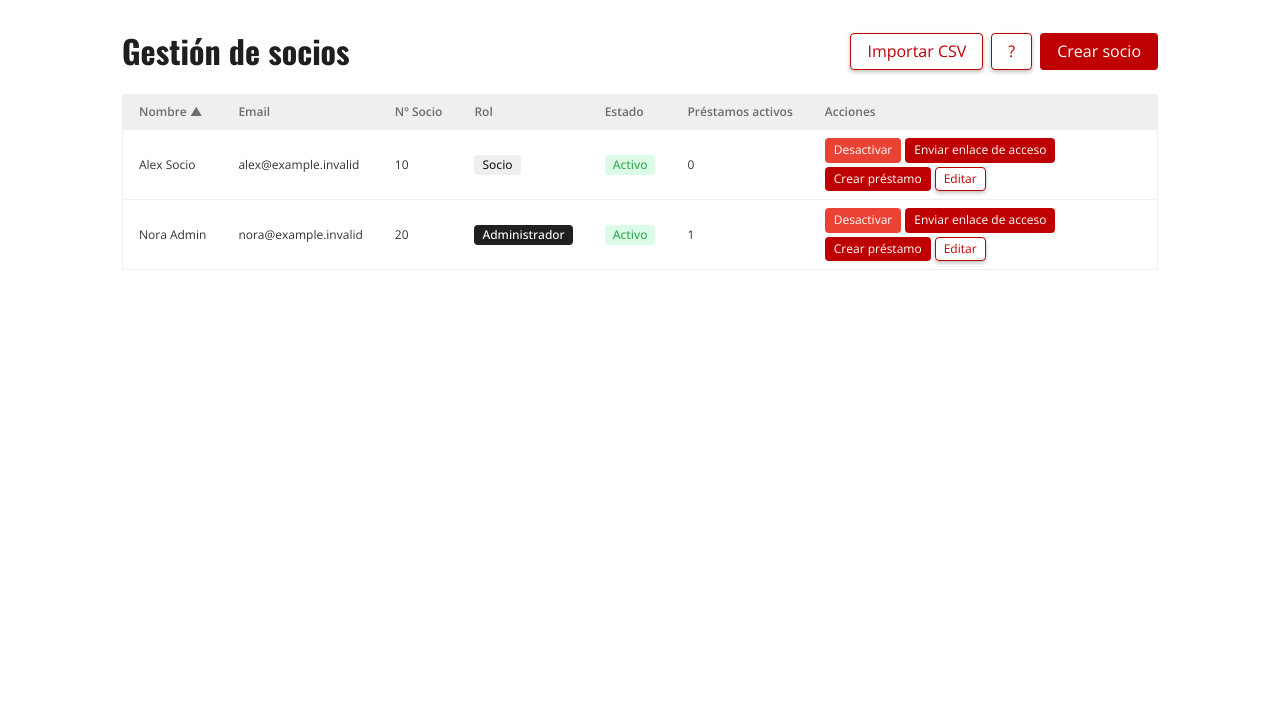
Scenario: AdminMembersPage admin-created loans › creates a loan after searching an available item by supported metadata
Click the button "Crear préstamo" in the row of "Alex Socio" at (878, 179), box left=825, top=167, right=931, bottom=191
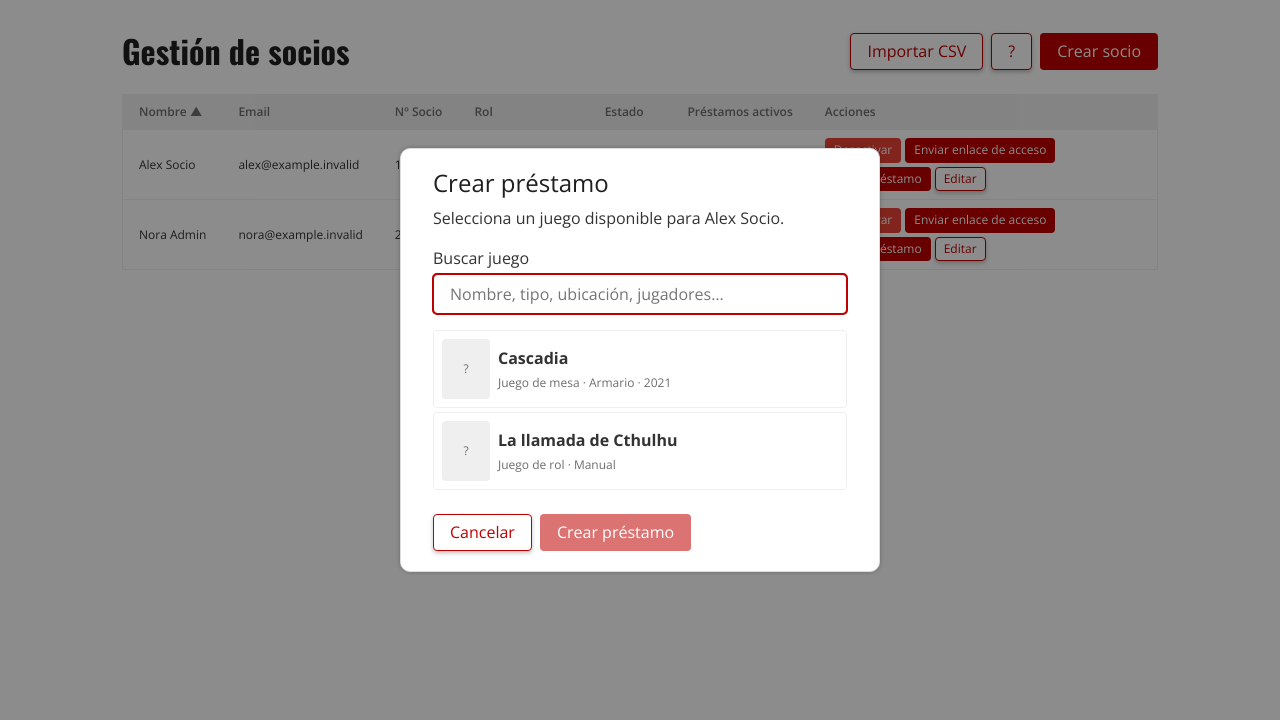
Expected: the text "La llamada de Cthulhu" is shown, left=498, top=428, right=677, bottom=452
Expected: the text "Juego de rol · Manual" is shown, left=498, top=456, right=616, bottom=473
Type "accion" into the search field labelled "Buscar juego" at (640, 294), box left=433, top=274, right=847, bottom=314
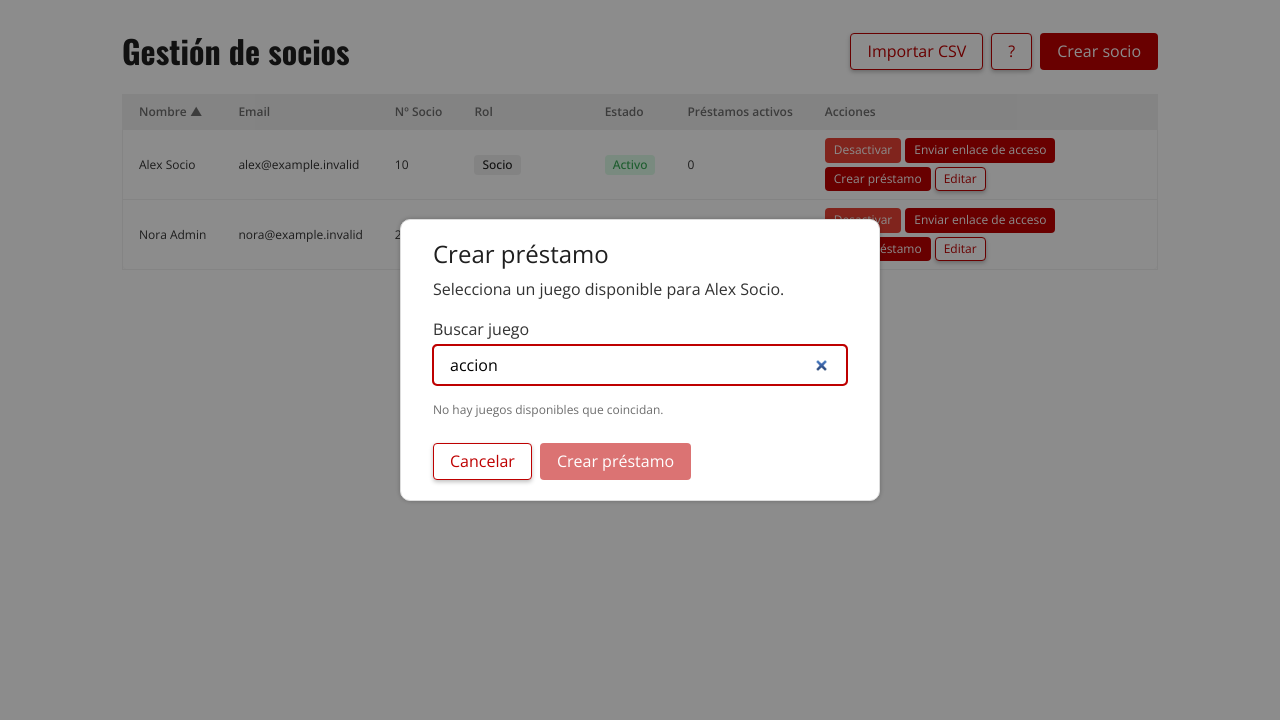
Expected: the button "Cascadia" is gone
Clear the search field labelled "Buscar juego" at (640, 365), box left=433, top=345, right=847, bottom=385
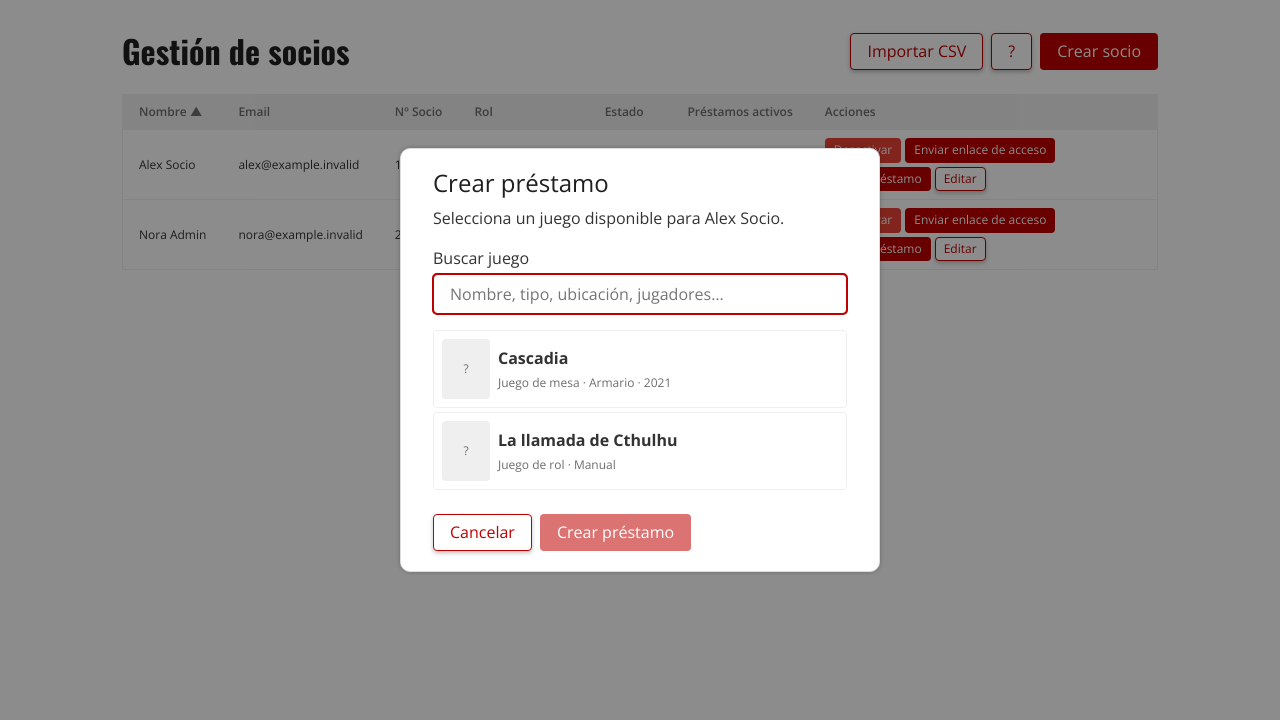
Type "armario" into the search field labelled "Buscar juego" at (640, 294), box left=433, top=274, right=847, bottom=314
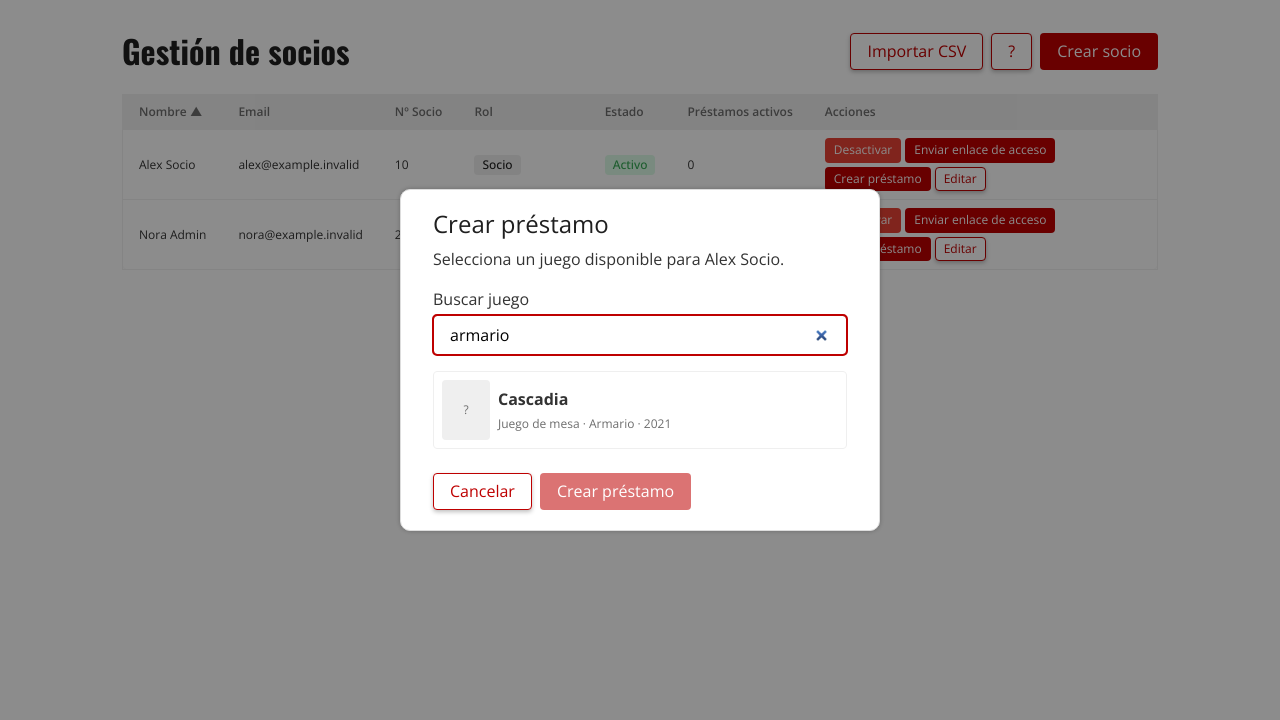
Expected: the text "Cascadia" is shown, left=498, top=388, right=568, bottom=410
Click the button "? Cascadia Juego de mesa · Armario · 2021" at (466, 410), box left=433, top=371, right=847, bottom=449
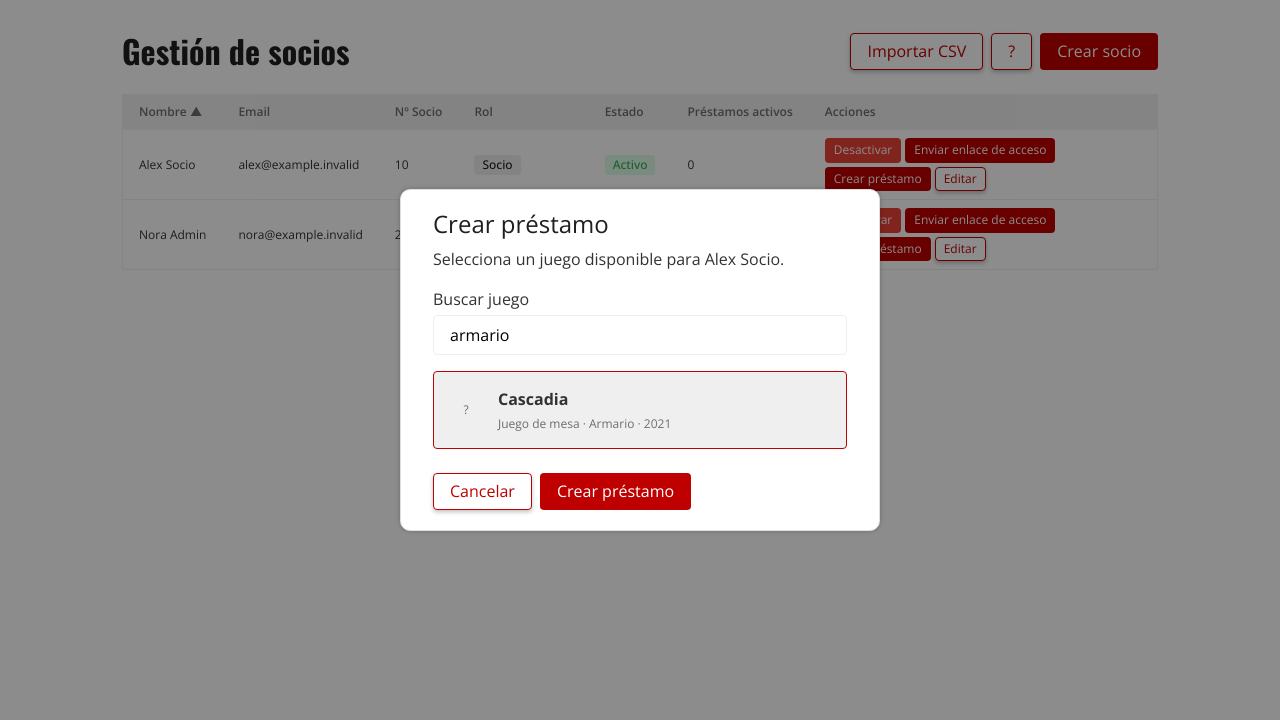
Click the button "Crear préstamo" at (616, 491), box left=540, top=473, right=691, bottom=510
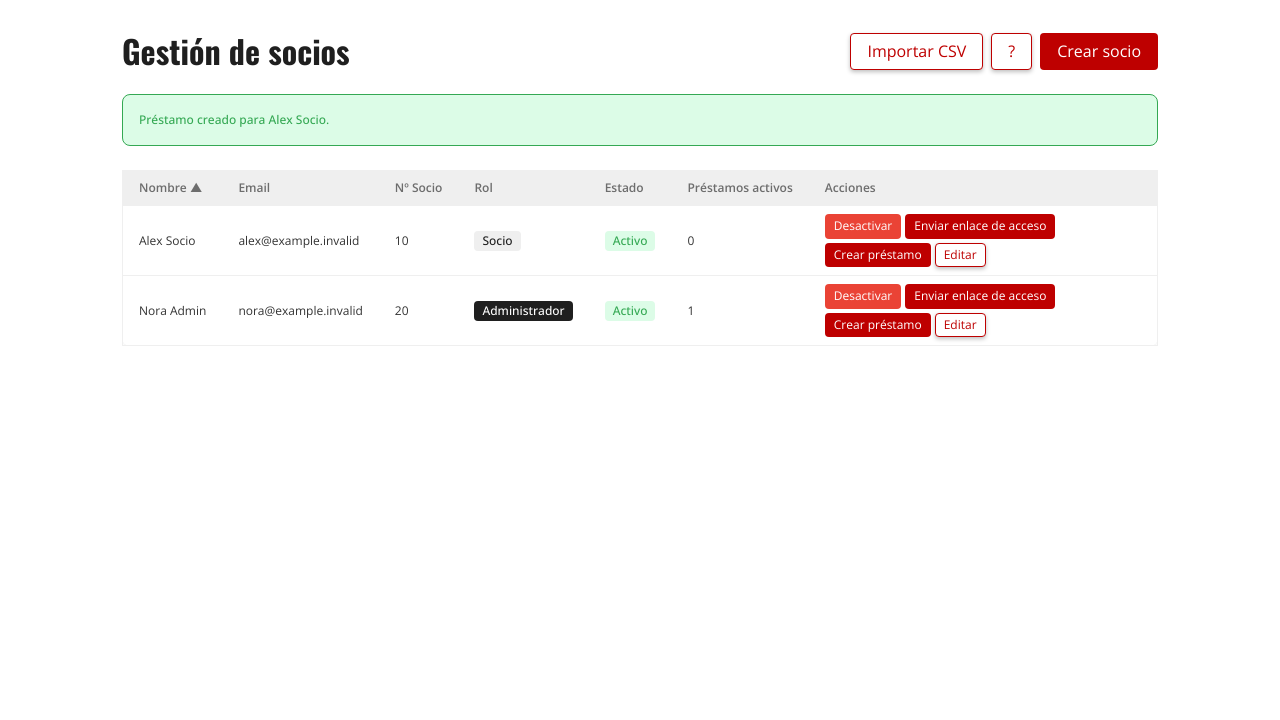
Expected: the text "Préstamo creado para Alex Socio." is shown, left=122, top=94, right=1158, bottom=146
